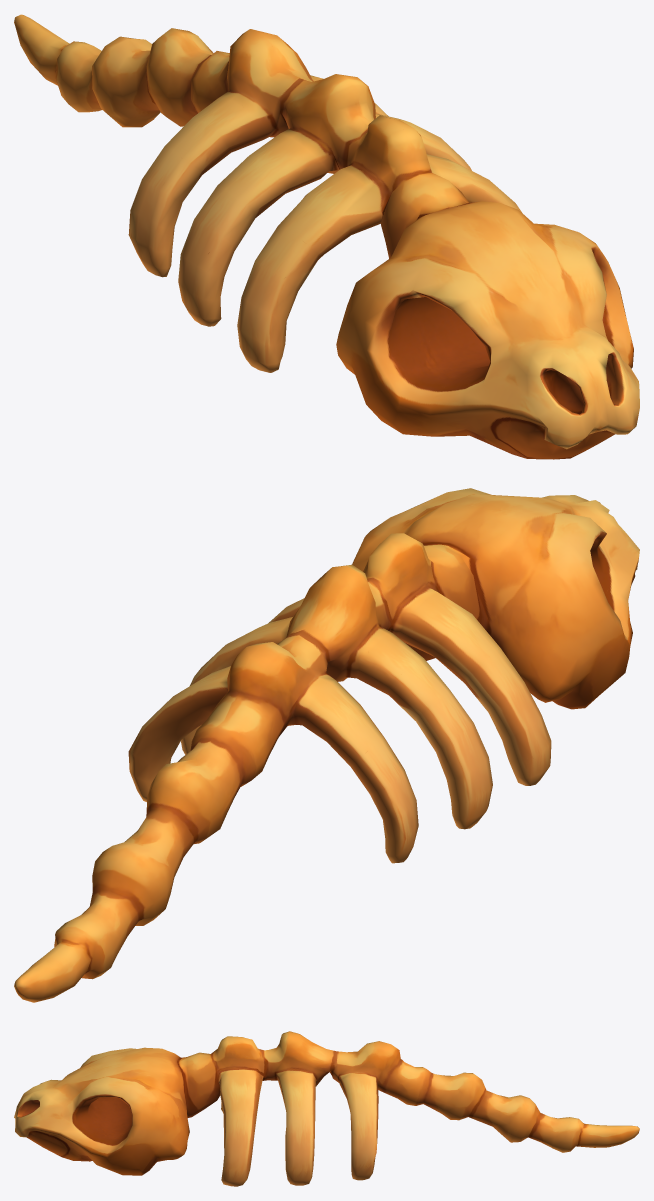
The model's file is tarhut_fossil.glb.
3 renders of one model, top to bottom at view 1: azimuth 30°, elevation 25°; view 2: azimuth 150°, elevation 25°; view 3: azimuth 270°, elevation 25°, orthographic. The views are drawn at different scales.
Visible parts, largest first — view 1: geometry_0; view 2: geometry_0; view 3: geometry_0.
Boxes of the visible parts, x1,y1,x2,y2 form: geometry_0: [14, 14, 639, 459]; geometry_0: [14, 488, 639, 1002]; geometry_0: [14, 1031, 639, 1186].
Size of the model in its own units: 0.2817 by 0.2002 by 0.9507.
1 material, 1 textured.
